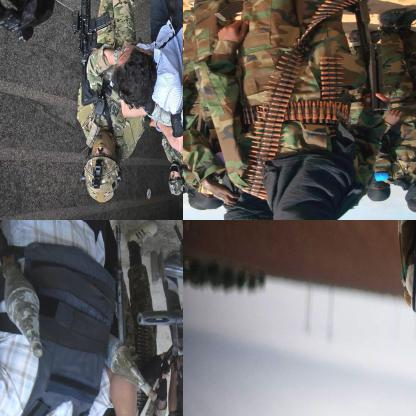rifle: (310, 0, 395, 119), (0, 221, 51, 360), (132, 220, 182, 355), (93, 330, 161, 407), (69, 0, 113, 112), (161, 0, 182, 123)
